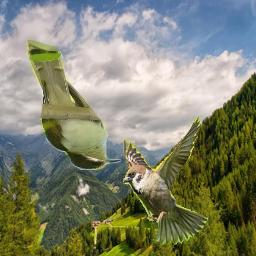Cuckoo: (26, 40, 121, 170)
Sparrow: (123, 115, 208, 245)
